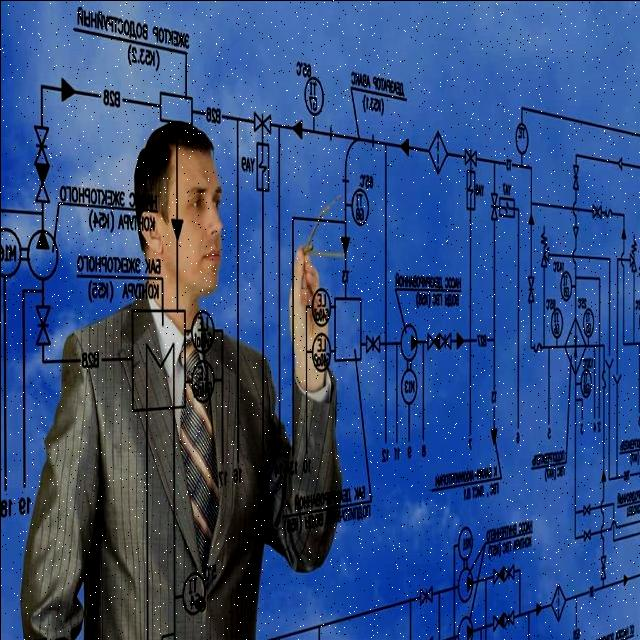Needle Valve: (28, 114, 54, 168), (34, 294, 52, 347), (416, 574, 437, 616), (250, 102, 274, 132), (364, 326, 382, 358), (460, 144, 480, 170), (524, 269, 536, 303), (504, 558, 516, 588), (440, 328, 452, 358), (486, 186, 496, 222), (588, 200, 604, 222), (504, 606, 516, 634), (597, 548, 606, 584), (572, 156, 580, 192)
